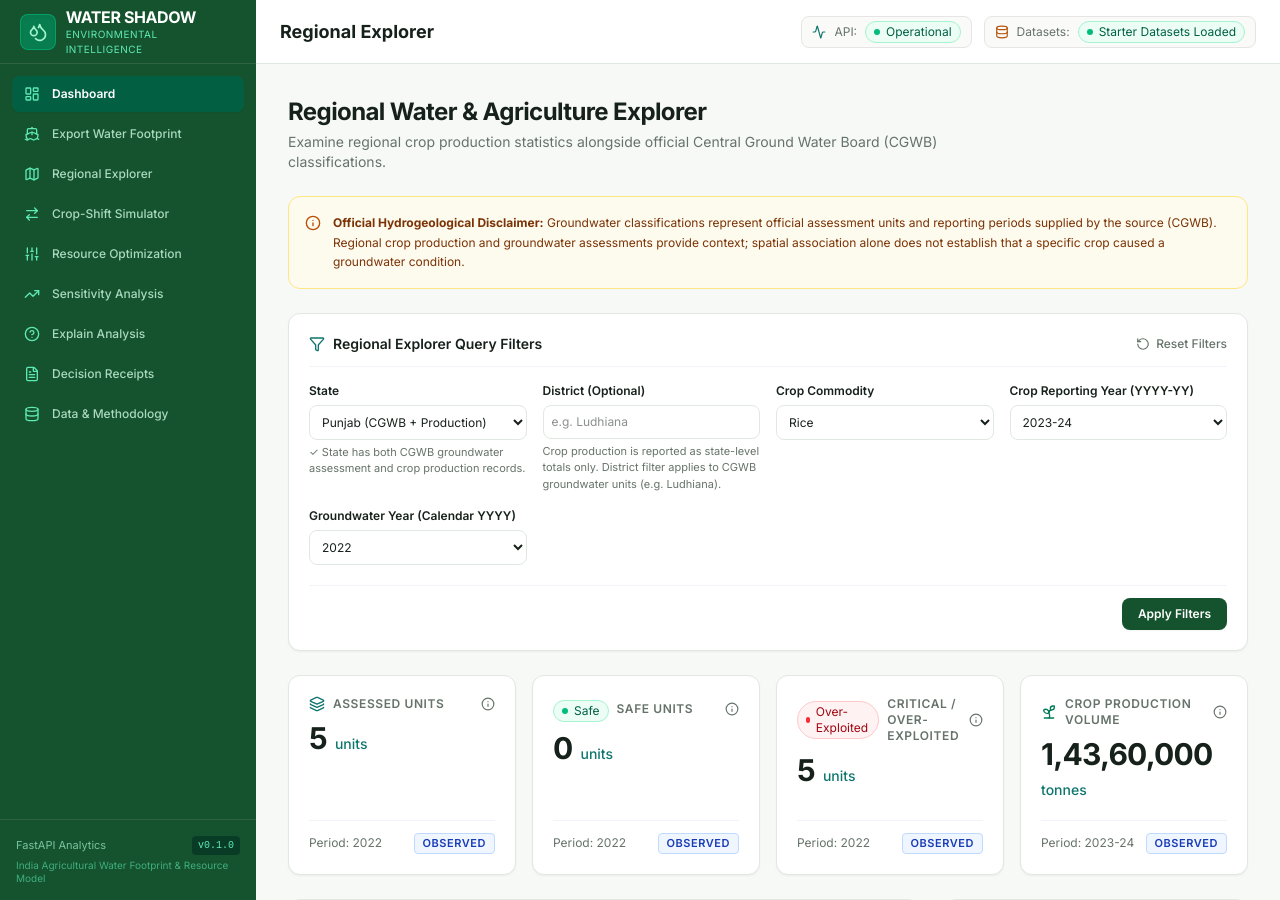
Scenario: RegionalExplorerPage Integration › explicitly reports unavailable groundwater data when selecting state without GW records
This screenshot has width=1280, height=900.
Note: Switch state to Uttar Pradesh
Select "Uttar Pradesh (Production only)" in the 1st dropdown. click: [418, 422]
box: [309, 404, 526, 440]
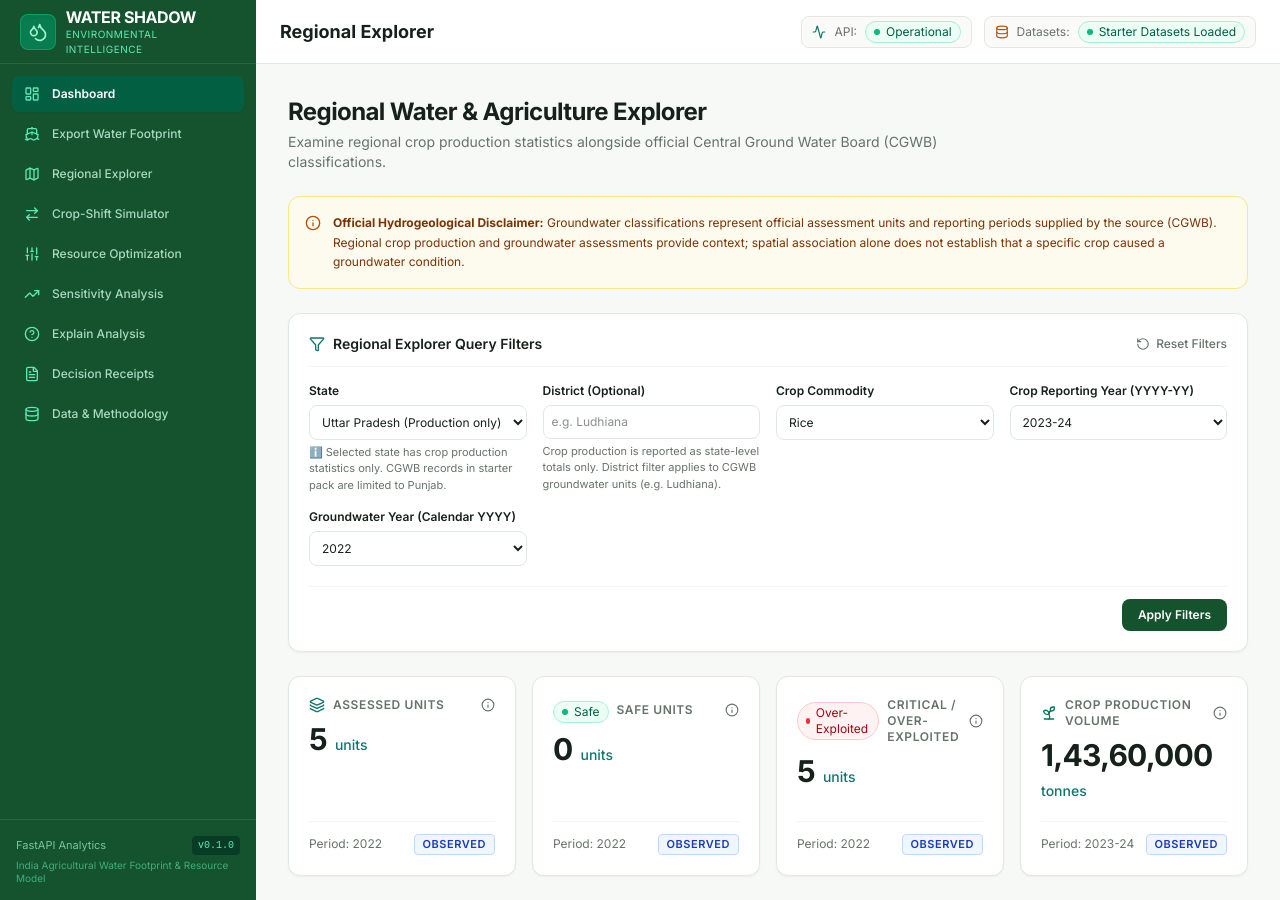
Click the button "Apply Filters". click: [1174, 615]
box: [1122, 599, 1227, 631]
(page scrolled)
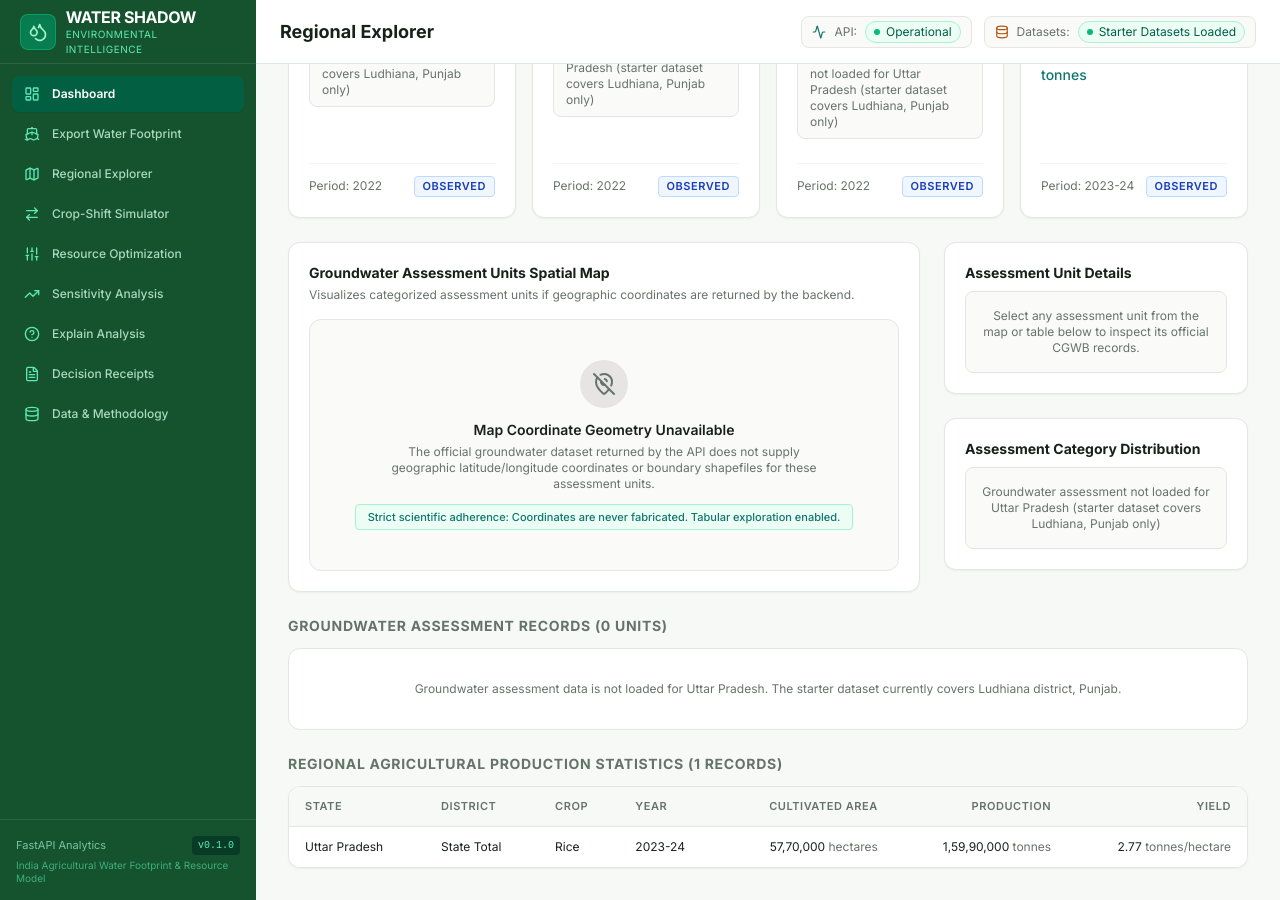
Check: the text "Groundwater assessment not loaded for Uttar Pradesh" below "Assessed Units" is shown, box [322, 18, 467, 97]
Check: the text "Groundwater assessment data is not loaded for Uttar Pradesh" is shown, box [415, 681, 1121, 696]
